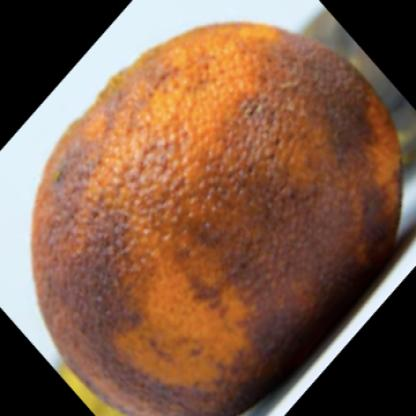rotten: (34, 24, 403, 416)
